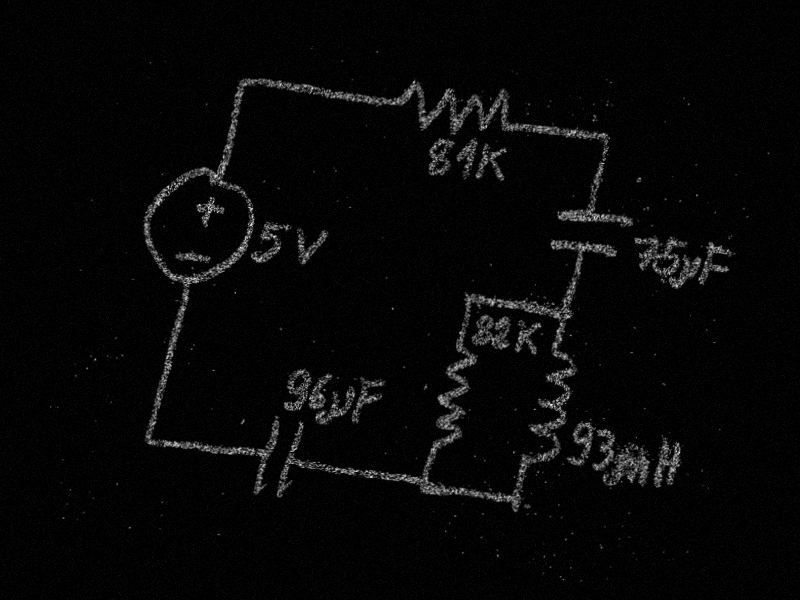-: (171, 248, 215, 265)
1: (449, 134, 482, 183)
2: (490, 314, 517, 351)
3: (587, 427, 619, 472)
5: (249, 217, 293, 268), (655, 232, 689, 281)
6: (306, 370, 333, 411)
7: (625, 233, 666, 276)
8: (422, 135, 458, 179), (468, 312, 497, 348)
9: (277, 366, 314, 413), (563, 419, 597, 468)
F: (697, 240, 736, 290), (349, 375, 387, 426)
H: (649, 434, 686, 490)
V: (286, 224, 332, 269)
k: (473, 140, 513, 188), (511, 319, 544, 357)
m: (608, 450, 653, 489)
u: (321, 385, 357, 427), (676, 255, 701, 289)
